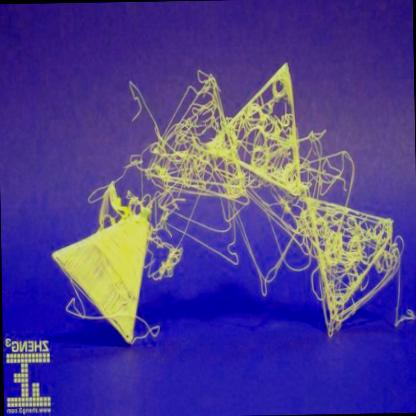fail: (120, 51, 314, 213), (304, 187, 414, 340)
